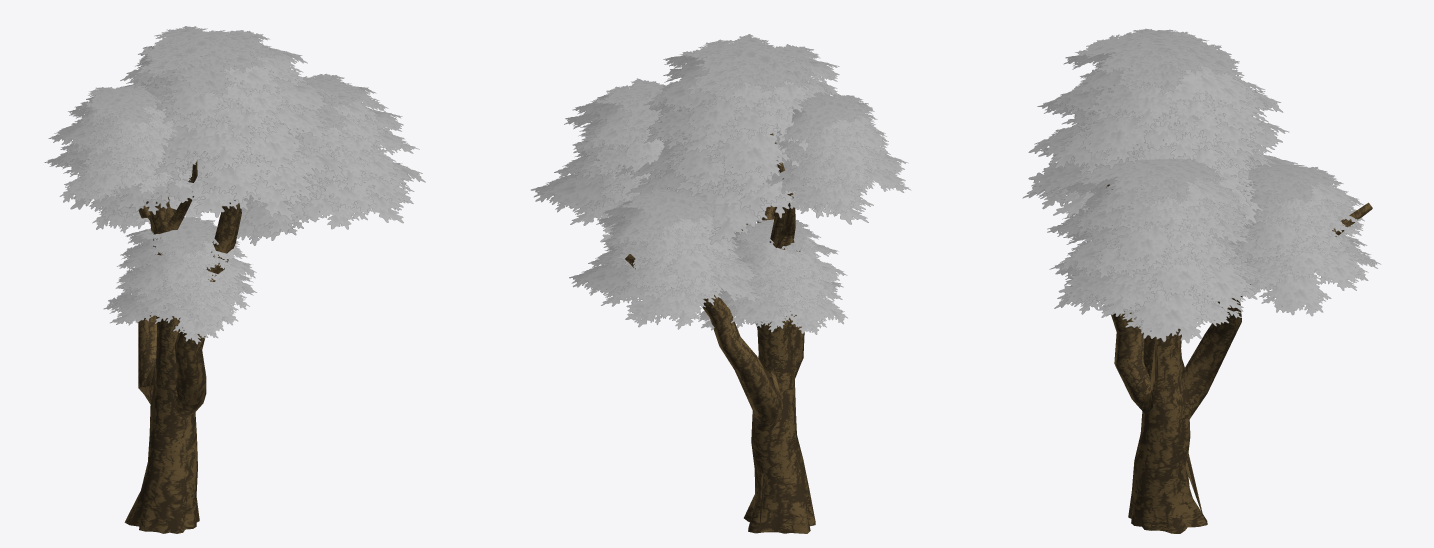
The model's file is treeOak04.fbx.
The picture shows the model from 3 angles, left to right: view 1: azimuth 30°, elevation 25°; view 2: azimuth 150°, elevation 25°; view 3: azimuth 270°, elevation 25°; orthographic projection. The views are drawn at different scales.
Visible parts, largest first — view 1: leaves_Clone___4_, Mesh; view 2: leaves_Clone___4_, Mesh; view 3: leaves_Clone___4_, Mesh.
Boxes of the visible parts, x1,y1,x2,y2 form: leaves_Clone___4_: (44, 26, 425, 344); Mesh: (124, 161, 241, 533); leaves_Clone___4_: (531, 34, 911, 334); Mesh: (625, 133, 815, 533); leaves_Clone___4_: (1022, 28, 1381, 343); Mesh: (1106, 184, 1372, 533).
Bounding box in the file's own units: 760 × 819 × 688.
